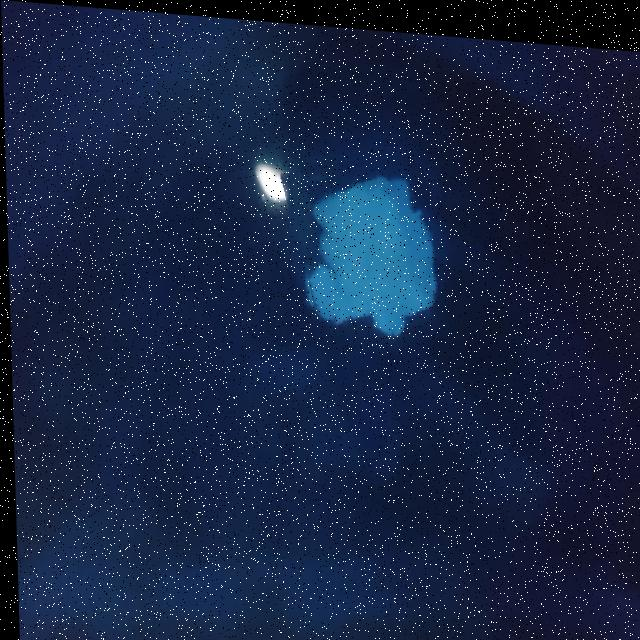thermocoal: (287, 145, 447, 351)
